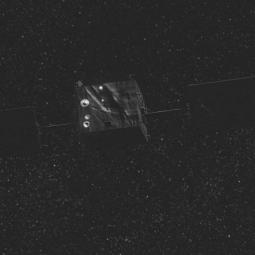smart_1: (24, 70, 192, 156)
